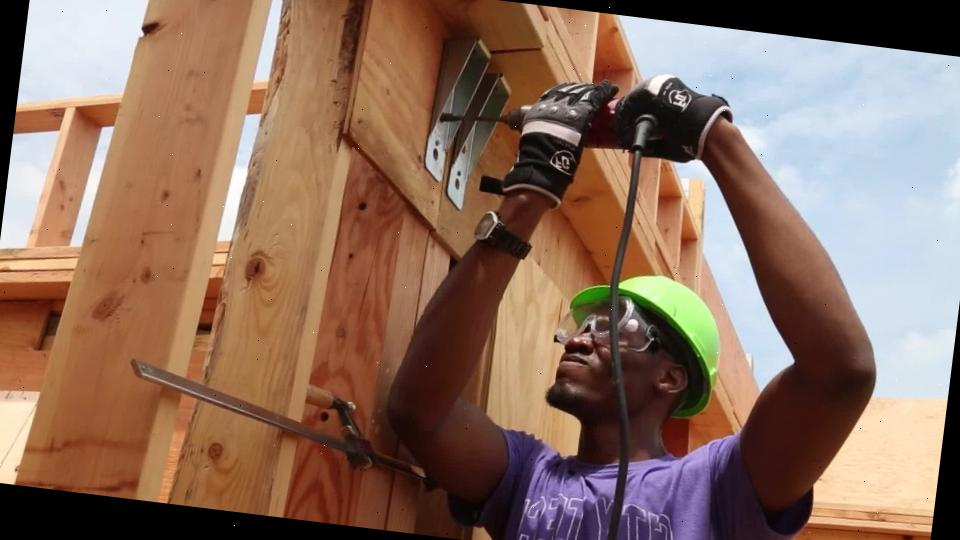helmet: (558, 266, 728, 424)
no_wear: (473, 429, 800, 540)
